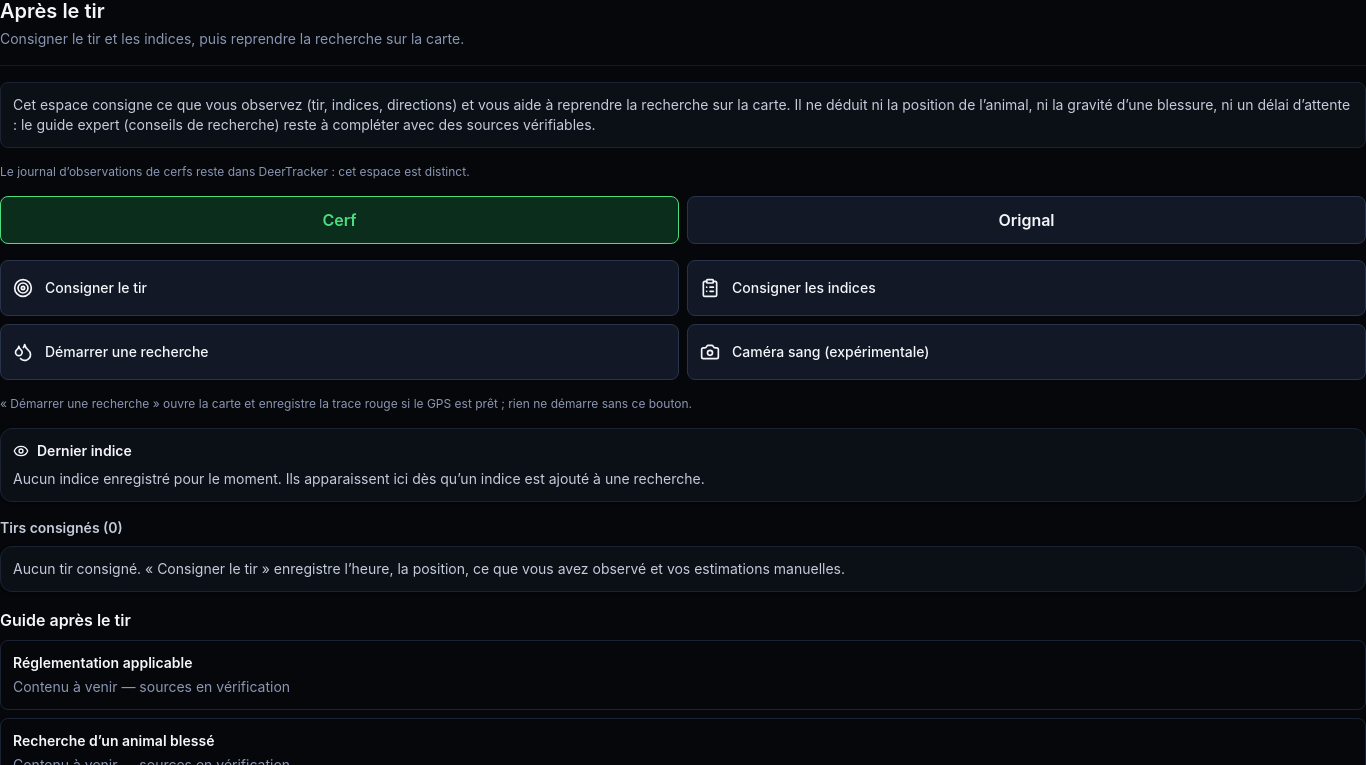
Scenario: Après le tir › an estimated position is only stored when chosen, and is labelled manual
Step 1. Click the button "Consigner le tir" → (96, 288), box [0,260,679,316]
(page scrolled)
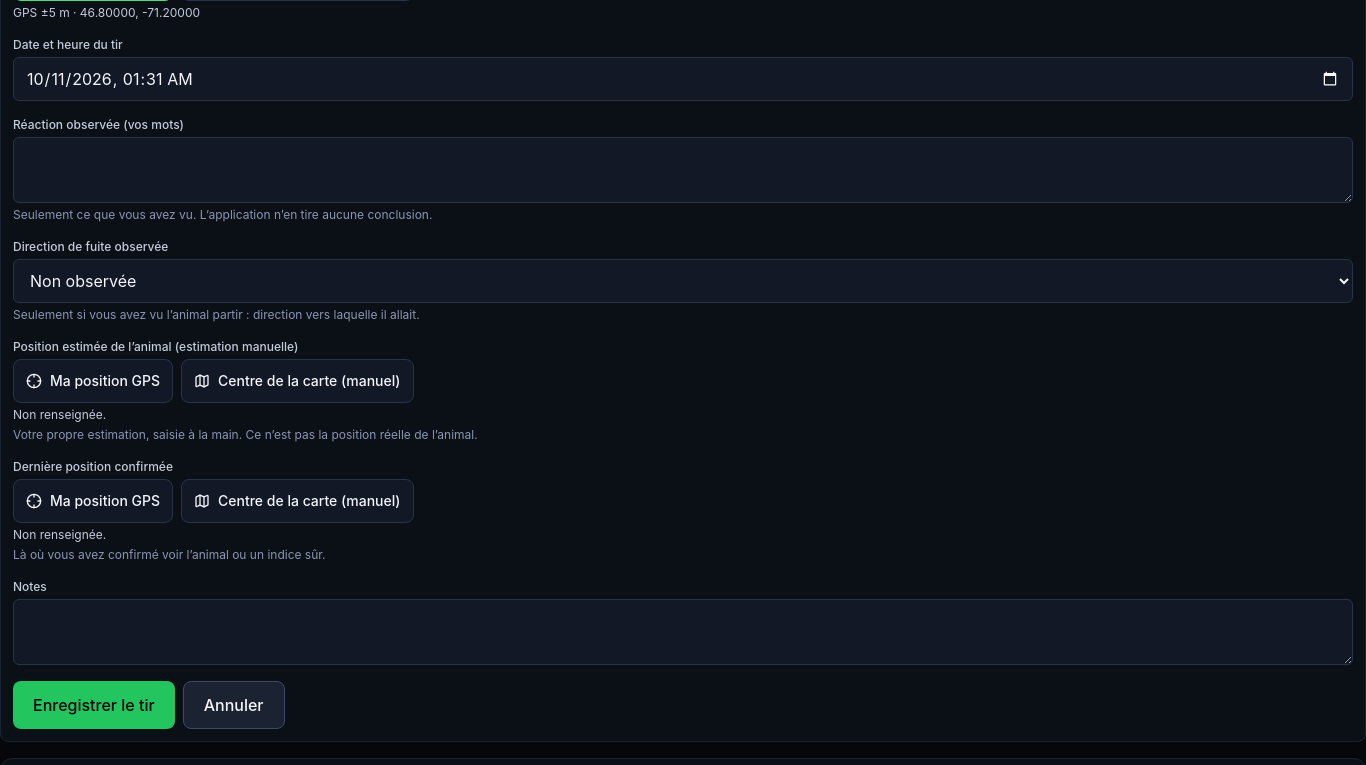
Expected: the text "Non renseignée." is shown 2 times, [13,407,106,422]; [13,527,106,542]
Step 2. Click the 2nd radio button labelled "Centre de la carte (manuel)" → (297, 381), box [181,359,414,403]
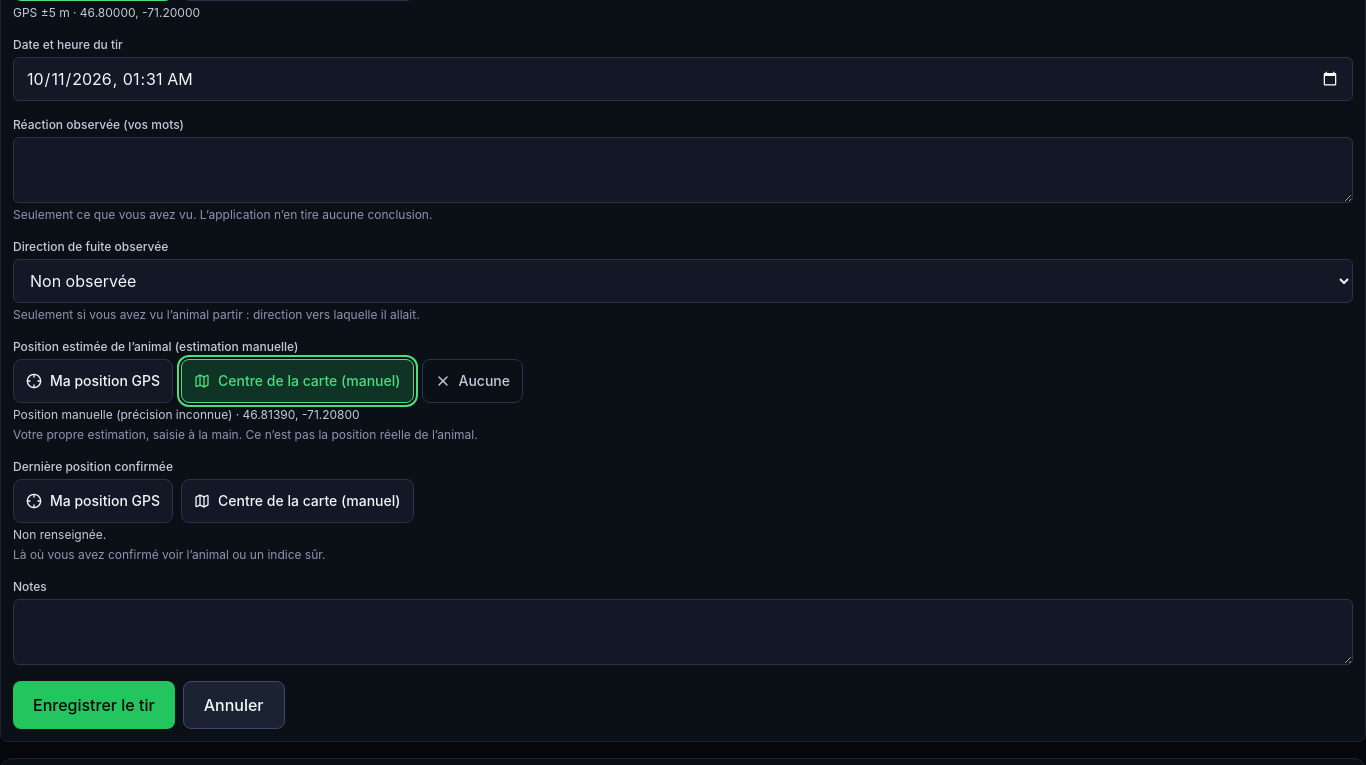
Step 3. Click the button "Enregistrer le tir" → (94, 705), box [13,681,175,729]
(page scrolled)
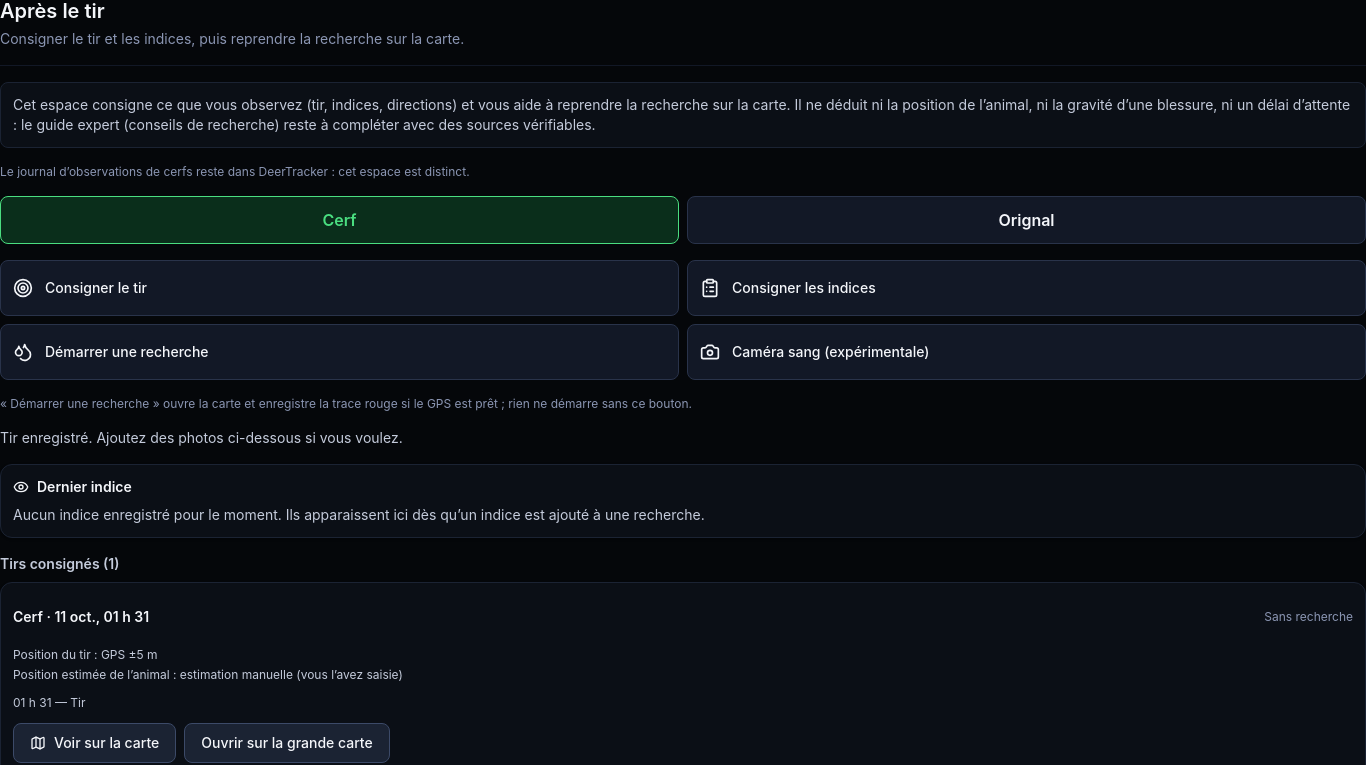
Expected: the list item "estimation manuelle" is shown, [13,667,403,682]
